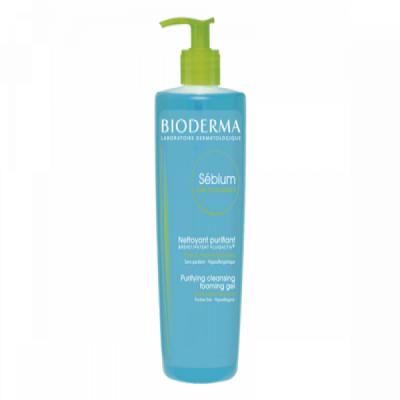Medicine: (143, 11, 257, 386)
